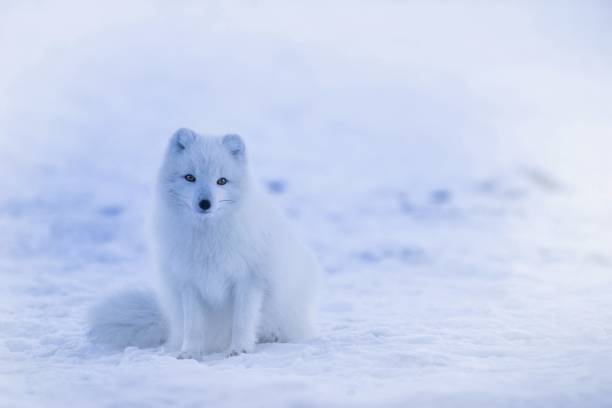arcticfox: (167, 145, 239, 237)
